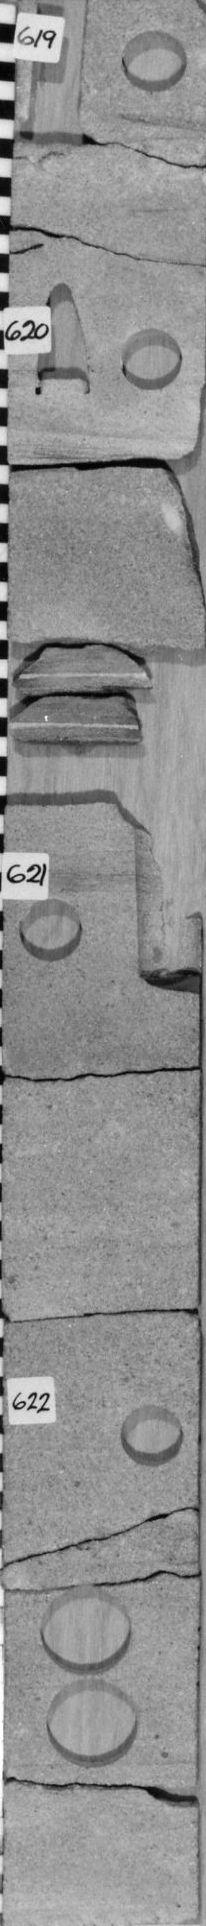hplug: (108, 328, 193, 394), (114, 1400, 194, 1470), (116, 26, 193, 96), (16, 892, 86, 965)
scal: (32, 1585, 139, 1674), (42, 1678, 142, 1772)
vplug: (130, 824, 206, 994), (25, 1, 94, 152), (29, 280, 98, 402)
